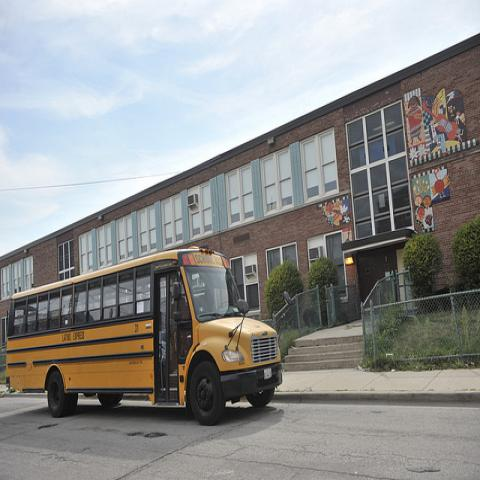bus: (4, 246, 281, 430)
